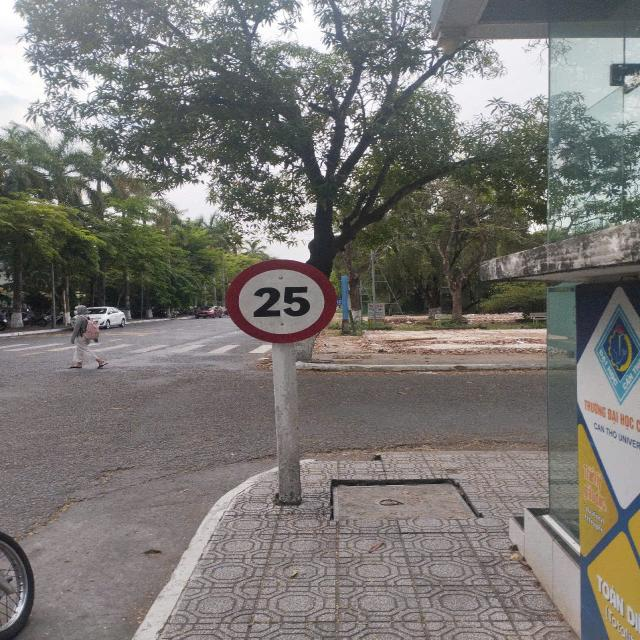Tre_Em: (223, 258, 339, 345)
